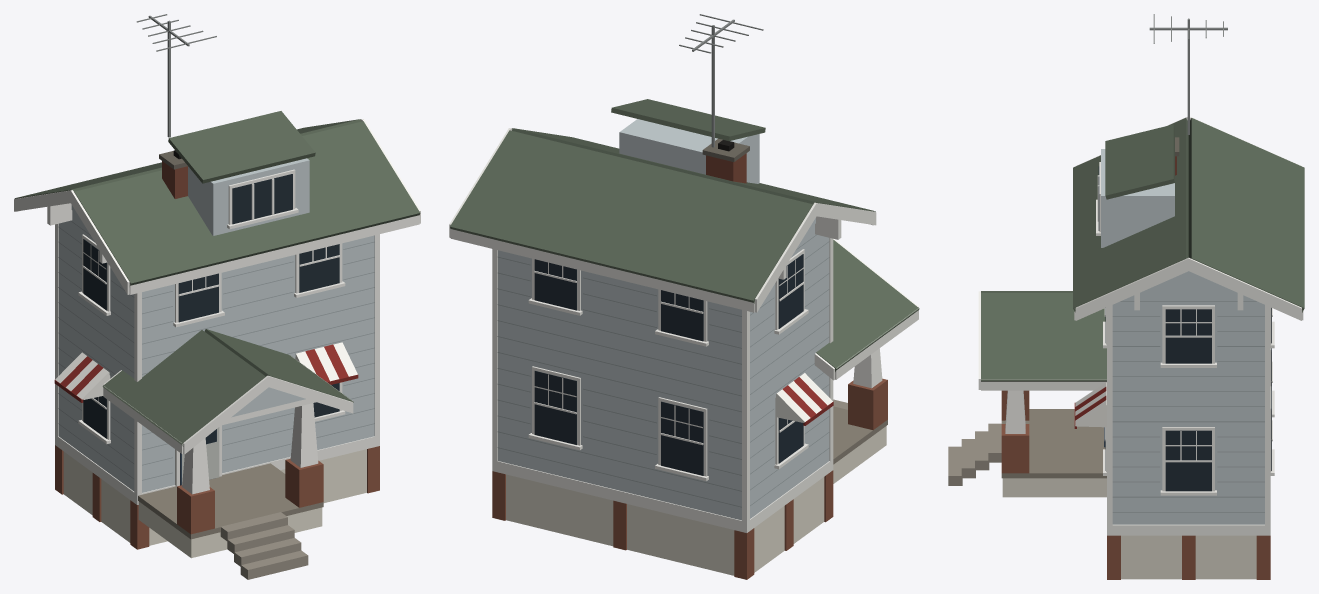
File: frame-bungalow-0002.glb
The picture shows the model from 3 angles, left to right: view 1: azimuth 30°, elevation 25°; view 2: azimuth 150°, elevation 25°; view 3: azimuth 270°, elevation 25°; orthographic projection. The views are drawn at different scales.
Parts seen in each view (by area): view 1: kit-frame-bungalow-0002; view 2: kit-frame-bungalow-0002; view 3: kit-frame-bungalow-0002.
Part boxes in pixels (x1,y1,x2,y2): kit-frame-bungalow-0002: [14, 14, 420, 579]; kit-frame-bungalow-0002: [449, 14, 919, 579]; kit-frame-bungalow-0002: [948, 14, 1304, 579].
Bounding box in the file's own units: 7.37 × 11.43 × 7.72.
